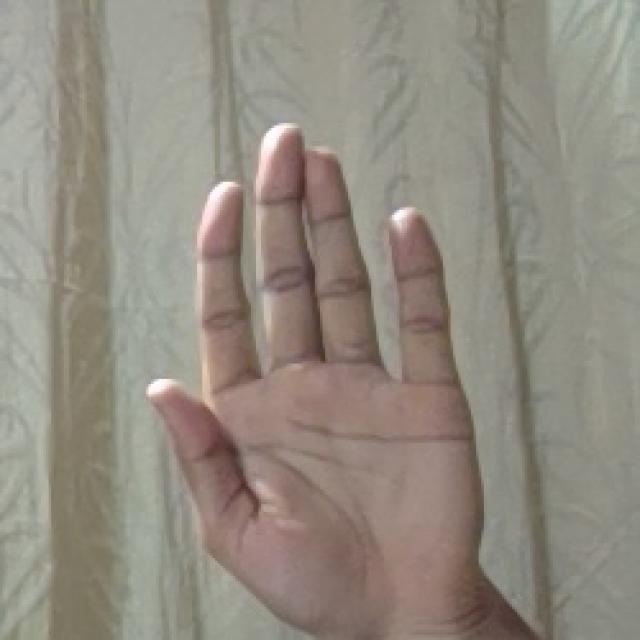Numeric-5: (137, 117, 484, 618)
